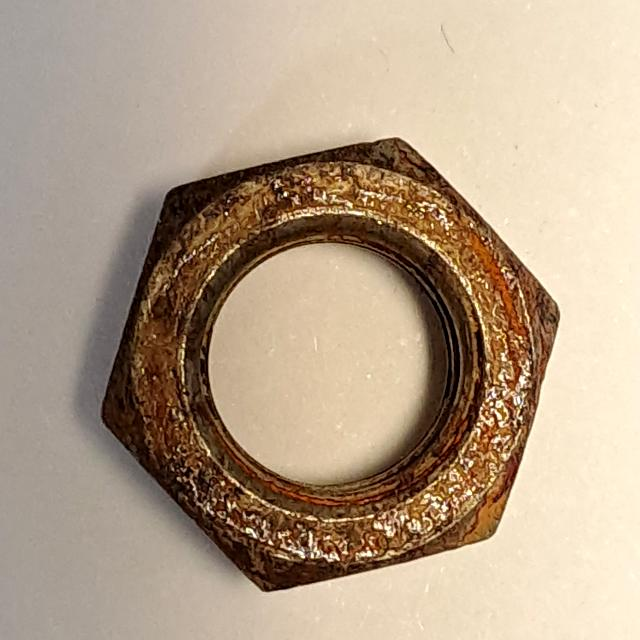Rust: (85, 124, 566, 600)
